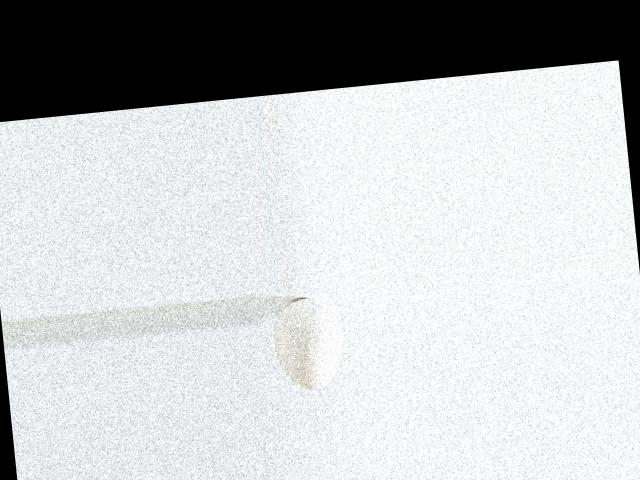egg: (271, 294, 348, 393)
